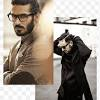Glasses: (4, 11, 32, 23)
